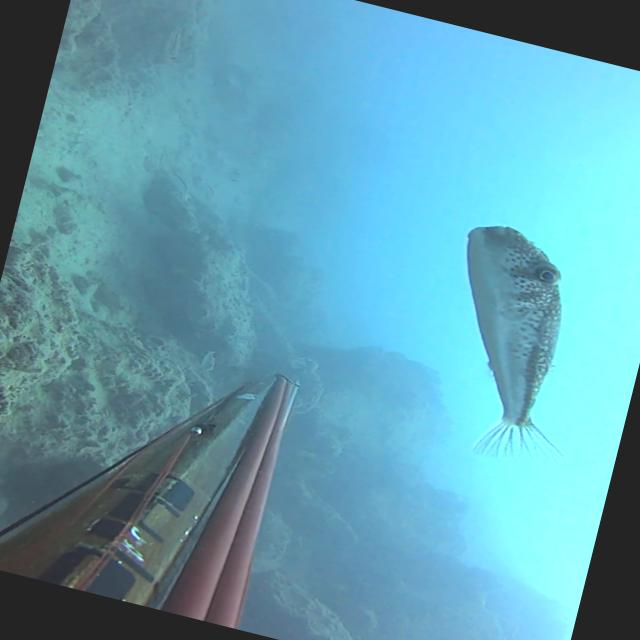Balon Baligi: (414, 215, 617, 475), (164, 24, 186, 62), (199, 348, 217, 370)
